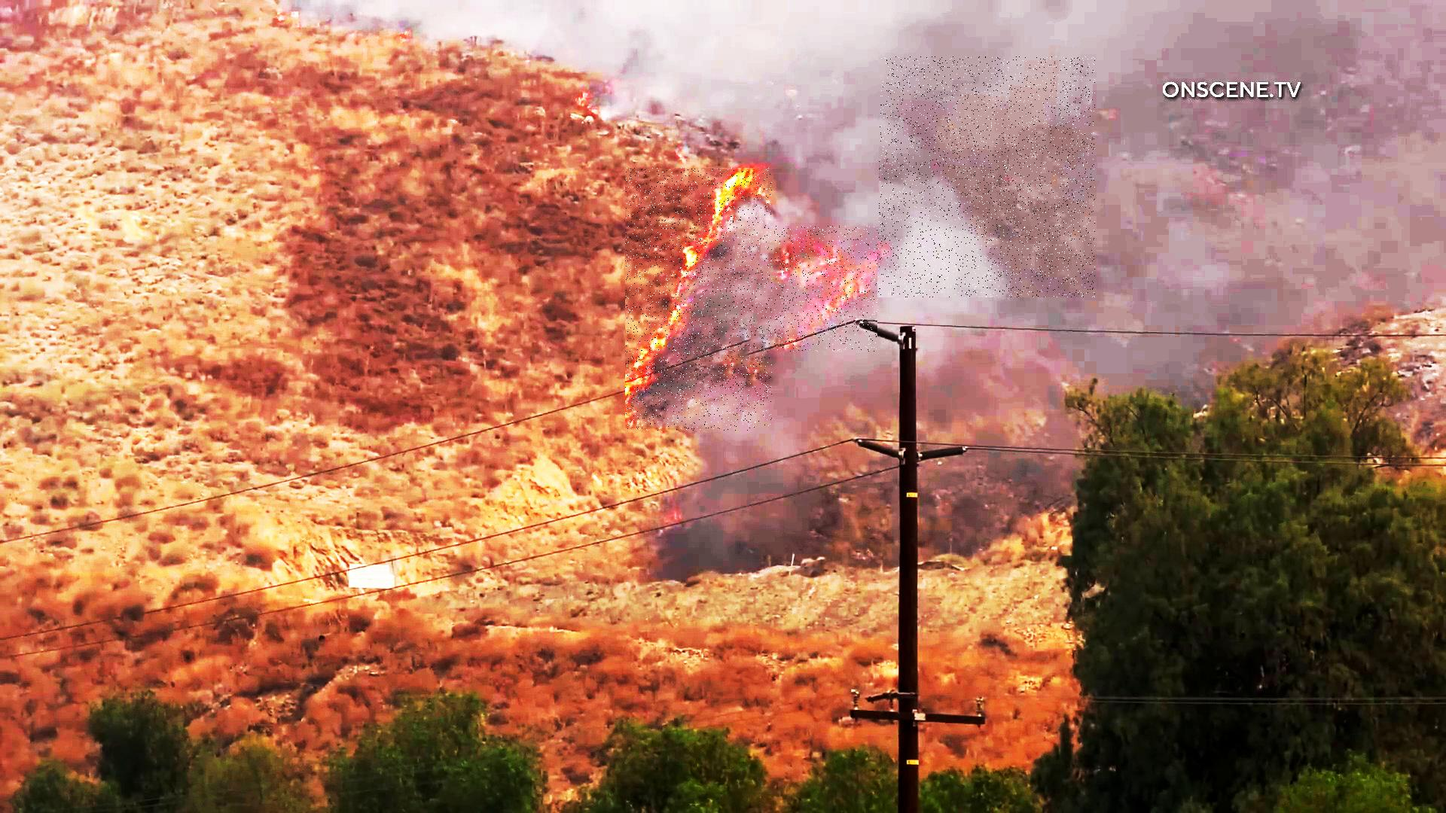fire: (626, 168, 773, 431), (775, 226, 880, 352)
smoke: (880, 57, 1096, 297)
